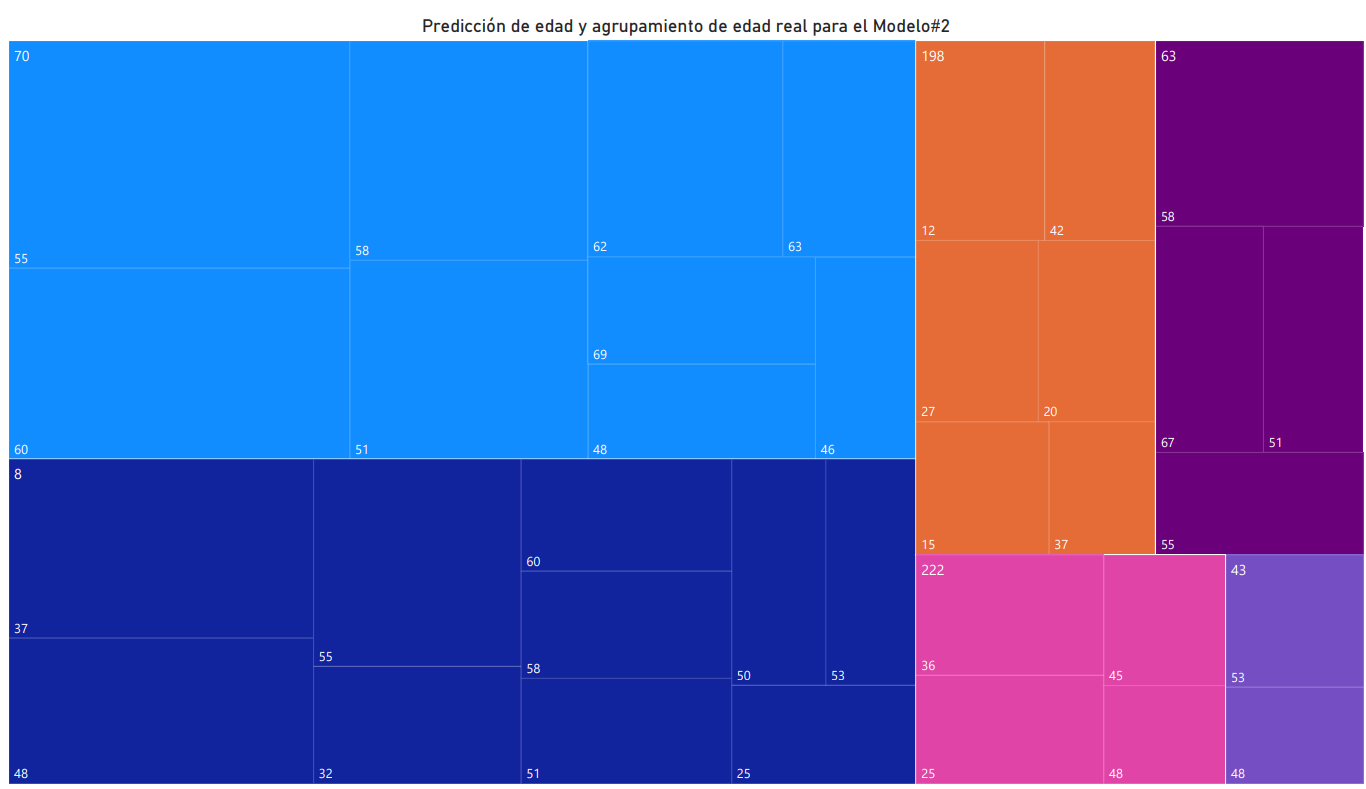

The page's visual inventory and layout, read from the dashboard file:
{"tool":"powerbi","page":{"name":"TreeMapModel2","canvas":[1280,720],"ordinal":7},"visuals":[{"type":"treemap","title":"Predicción de edad y agrupamiento de edad real para el Modelo#2","fields":{"Values":["Sum(dataModelos (2).edadMod1)"],"Group":["dataModelos (2).predMod2"],"Details":["dataModelos (2).edadMod2"]},"box":[9.8,0,1270.2,720],"z":0}]}

Visuals, with their boxes in screenshot pixels (x1, y1, x2, y2), scaled from the page's 1280x720 canvas onto the 1366x789 screenshot:
"Predicción de edad y agrupamiento de edad real para el Modelo#2" treemap: <box>10,0,1365,788</box>
